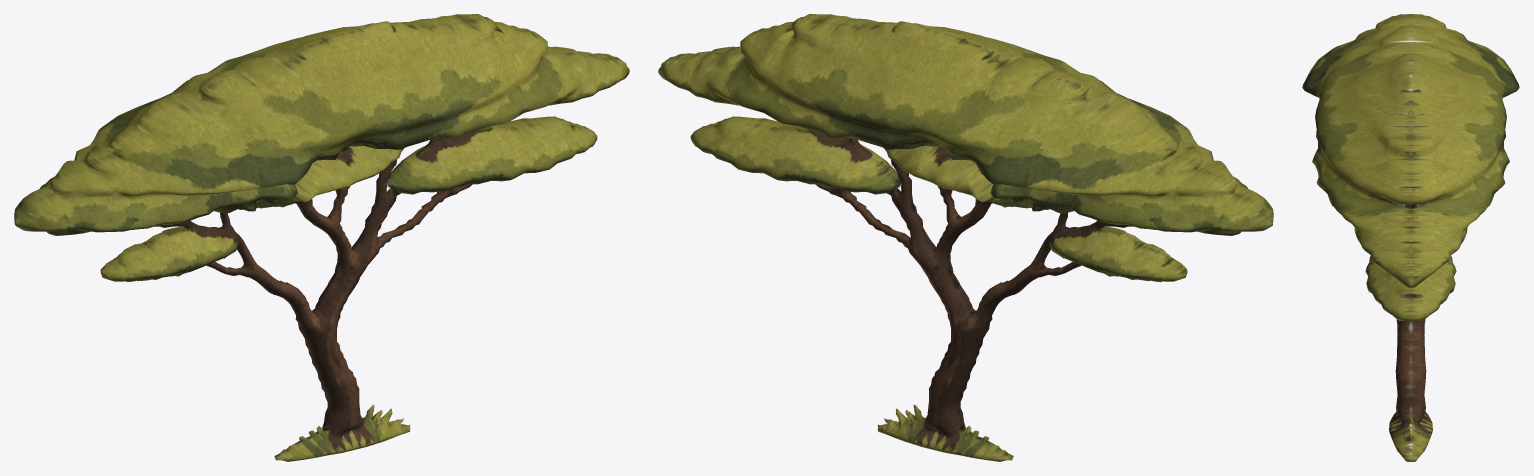
File: layers_props_12_tree_acacia_small.glb
The picture shows the model from 3 angles, left to right: view 1: azimuth 30°, elevation 25°; view 2: azimuth 150°, elevation 25°; view 3: azimuth 270°, elevation 25°; orthographic projection. The views are drawn at different scales.
Parts seen in each view (by area): view 1: layers_props_12_tree_acacia_small; view 2: layers_props_12_tree_acacia_small; view 3: layers_props_12_tree_acacia_small.
Part boxes in pixels (box(x1,y1,x2,y2)): layers_props_12_tree_acacia_small: box(14, 14, 629, 461); layers_props_12_tree_acacia_small: box(658, 14, 1273, 461); layers_props_12_tree_acacia_small: box(1302, 14, 1519, 461).
Bounding box in the file's own units: 11.32 × 7.33 × 3.88.
1 material, 1 textured.
